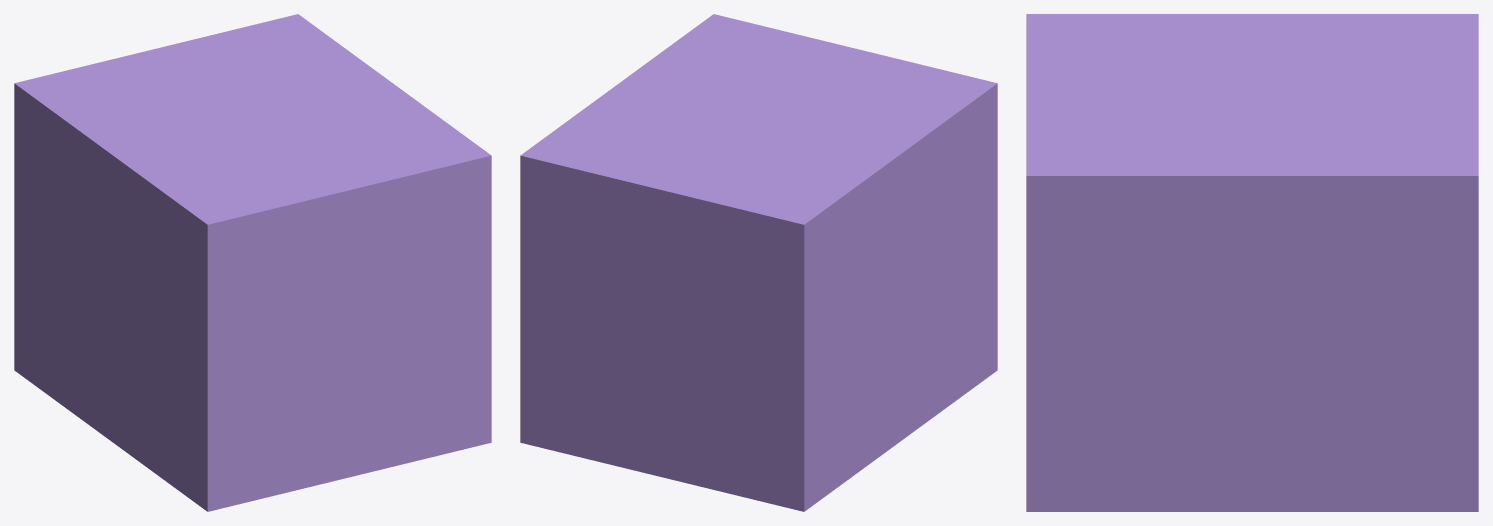
Rendered from half_rock_1.DAE.
3 renders of one model, left to right at view 1: azimuth 30°, elevation 25°; view 2: azimuth 150°, elevation 25°; view 3: azimuth 270°, elevation 25°, orthographic. The views are drawn at different scales.
Parts seen in each view (by area): view 1: bounds; view 2: bounds; view 3: bounds.
Part boxes in pixels (x1,y1,x2,y2): bounds: (14, 14, 491, 511); bounds: (520, 14, 997, 511); bounds: (1026, 14, 1478, 511).
Bounding box in the file's own units: 12.4 × 14.63 × 11.98.
